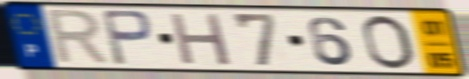6: (306, 15, 355, 68)
7: (228, 11, 281, 68)
H: (167, 11, 234, 68)
O: (360, 13, 419, 72)
P: (98, 8, 156, 68)
R: (45, 7, 115, 67)
